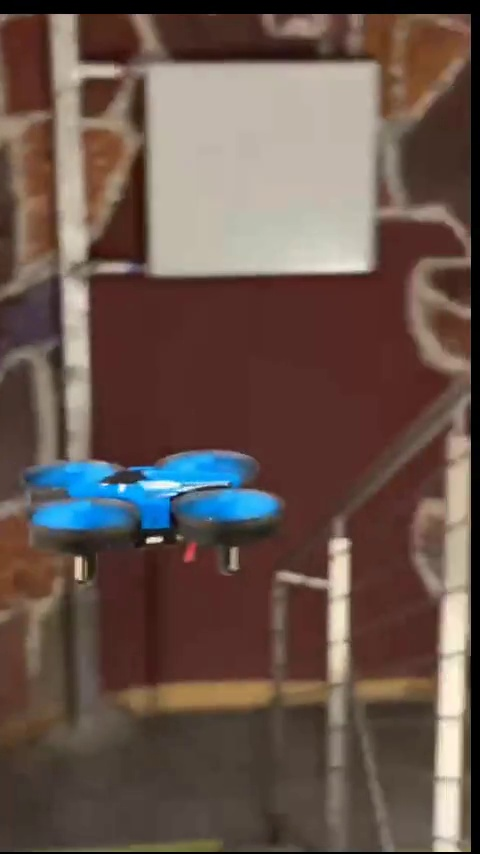drone: (26, 456, 281, 580)
